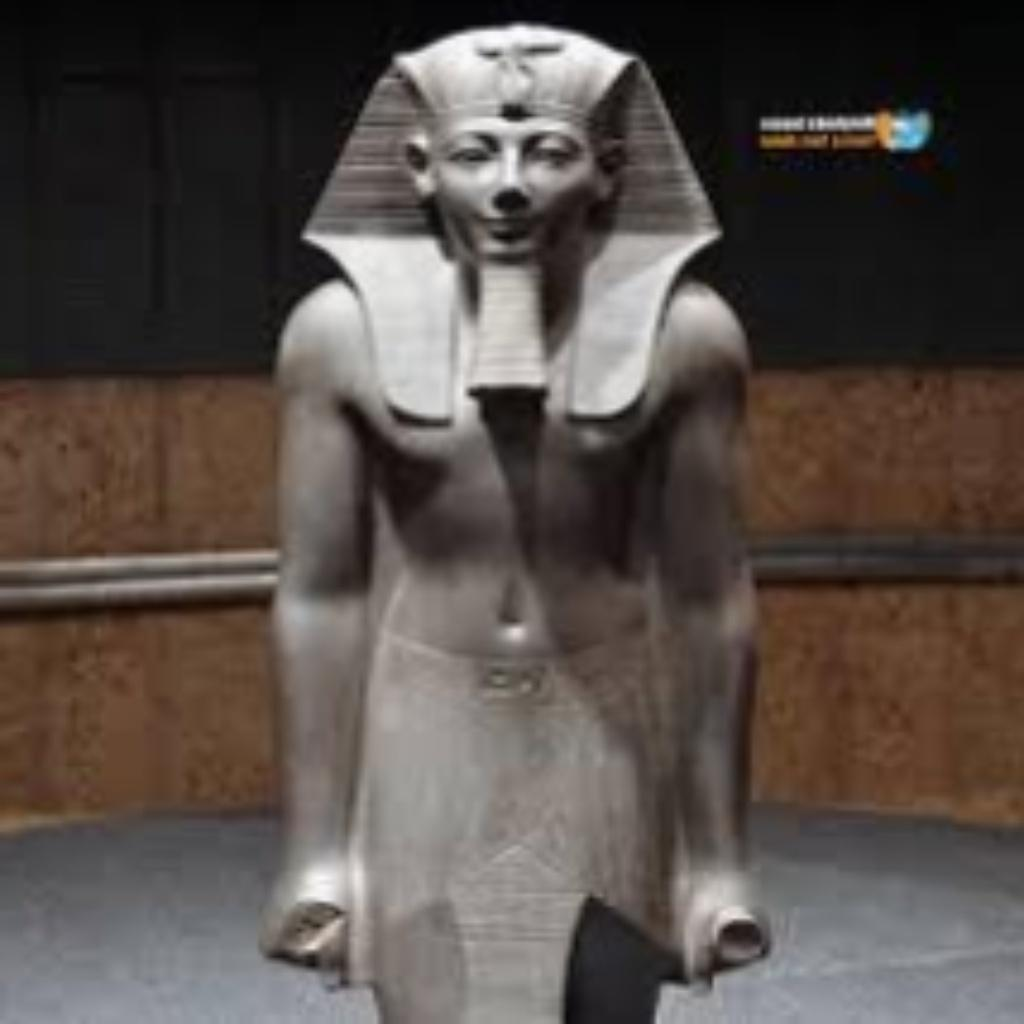King Thutmose III: (254, 13, 780, 1020)
